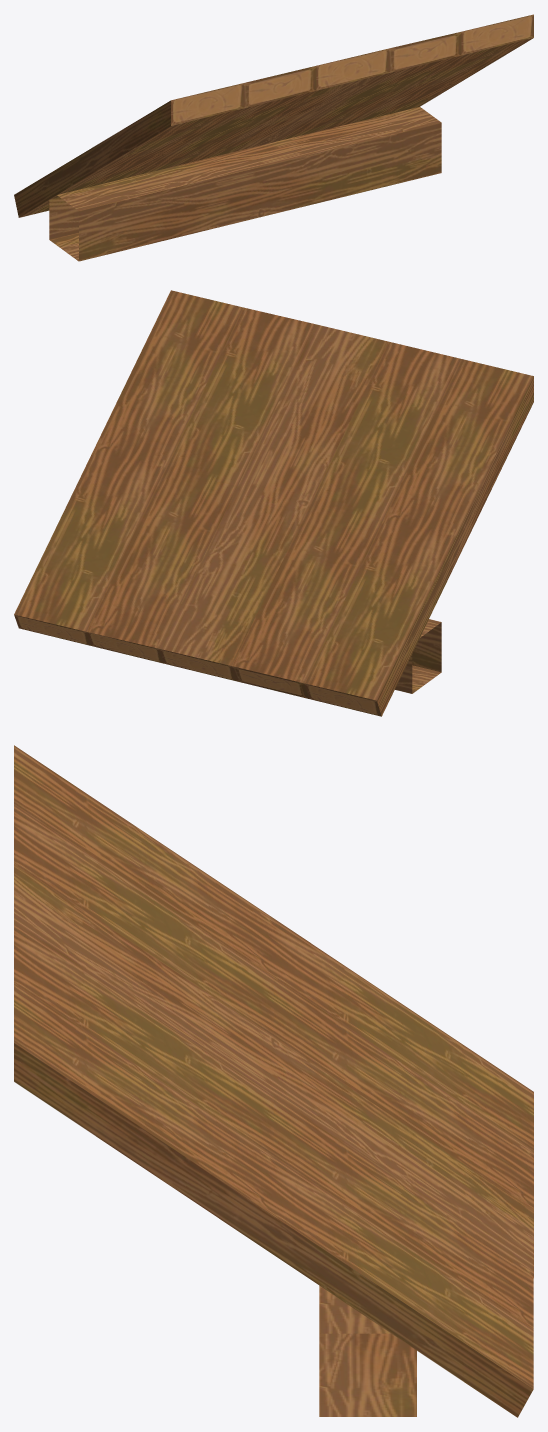
The model's file is Roof_Wooden_2x1_Center_Mirror.gltf.
The picture shows the model from 3 angles, top to bottom: view 1: azimuth 30°, elevation 25°; view 2: azimuth 150°, elevation 25°; view 3: azimuth 270°, elevation 25°; orthographic projection. The views are drawn at different scales.
Parts seen in each view (by area): view 1: Roof_Wooden_2x1_Center_Mirror; view 2: Roof_Wooden_2x1_Center_Mirror; view 3: Roof_Wooden_2x1_Center_Mirror.
Boxes of the visible parts, bbox=[...] form: Roof_Wooden_2x1_Center_Mirror: bbox=[14, 14, 533, 261]; Roof_Wooden_2x1_Center_Mirror: bbox=[14, 290, 533, 716]; Roof_Wooden_2x1_Center_Mirror: bbox=[14, 745, 533, 1417].
Size of the model in its own units: 2 by 1.21 by 1.5.
2 materials, 2 textured.
